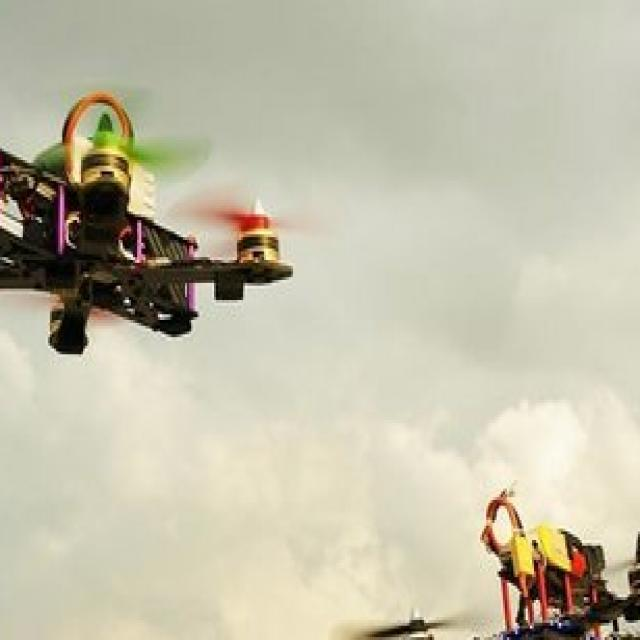drone: (0, 112, 339, 417), (343, 463, 640, 640)
